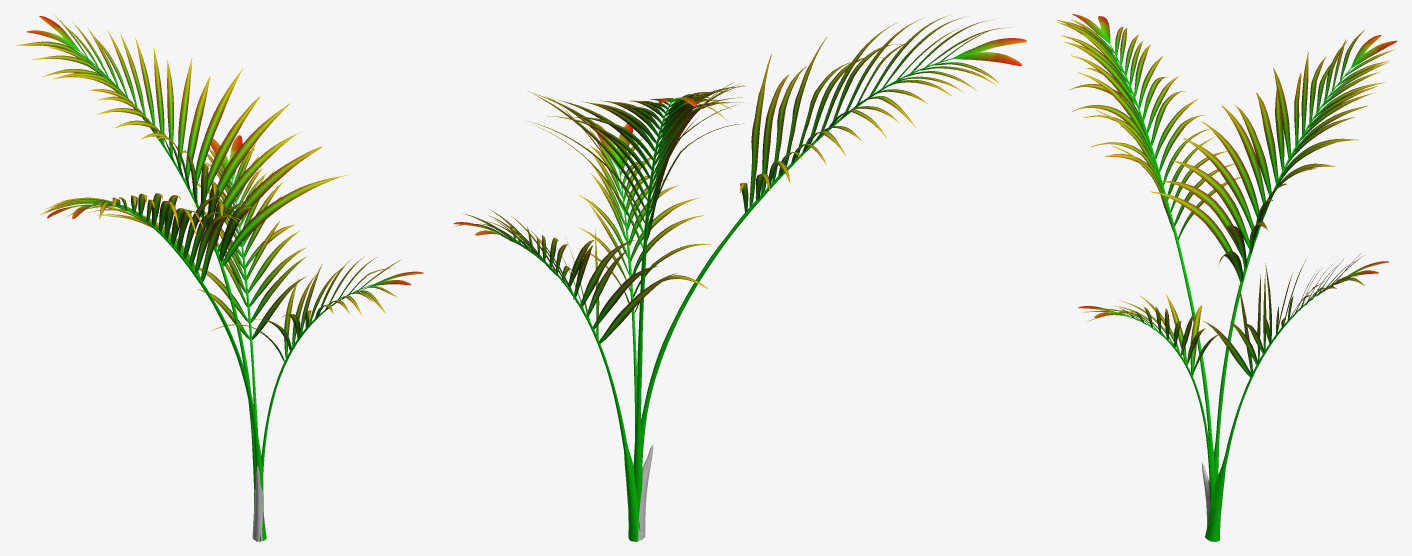
Rendered from Alexandra Palm_LOD0_Var3_ukgkcilia.fbx.
3 renders of one model, left to right at view 1: azimuth 30°, elevation 25°; view 2: azimuth 150°, elevation 25°; view 3: azimuth 270°, elevation 25°, orthographic. The views are drawn at different scales.
Visible parts, largest first — view 1: _mazk_Var3_LOD0; view 2: _mazk_Var3_LOD0; view 3: _mazk_Var3_LOD0.
Boxes of the visible parts, x1,y1,x2,y2 form: _mazk_Var3_LOD0: (15,15,423,541); _mazk_Var3_LOD0: (453,15,1026,541); _mazk_Var3_LOD0: (1056,14,1397,541).
Size of the model in its own units: 56.75 by 69.66 by 48.63.
